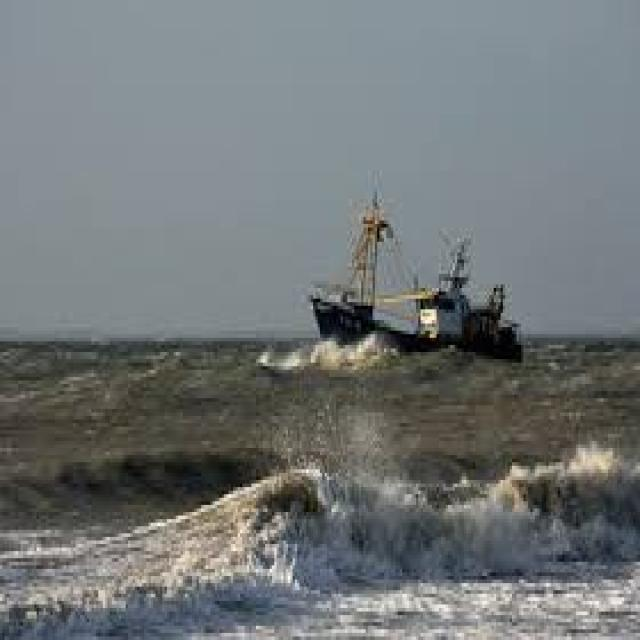fishing boat: (309, 187, 521, 359)
